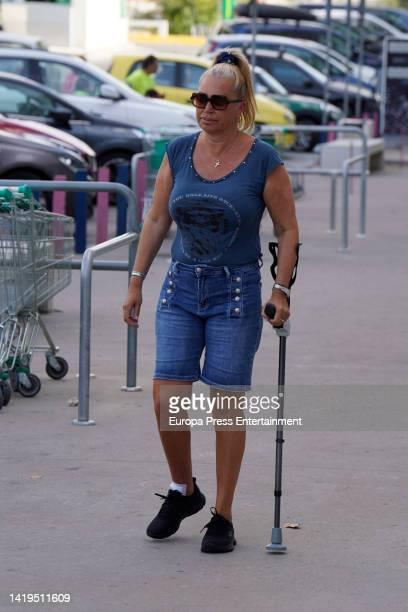crutches: (119, 45, 304, 568)
